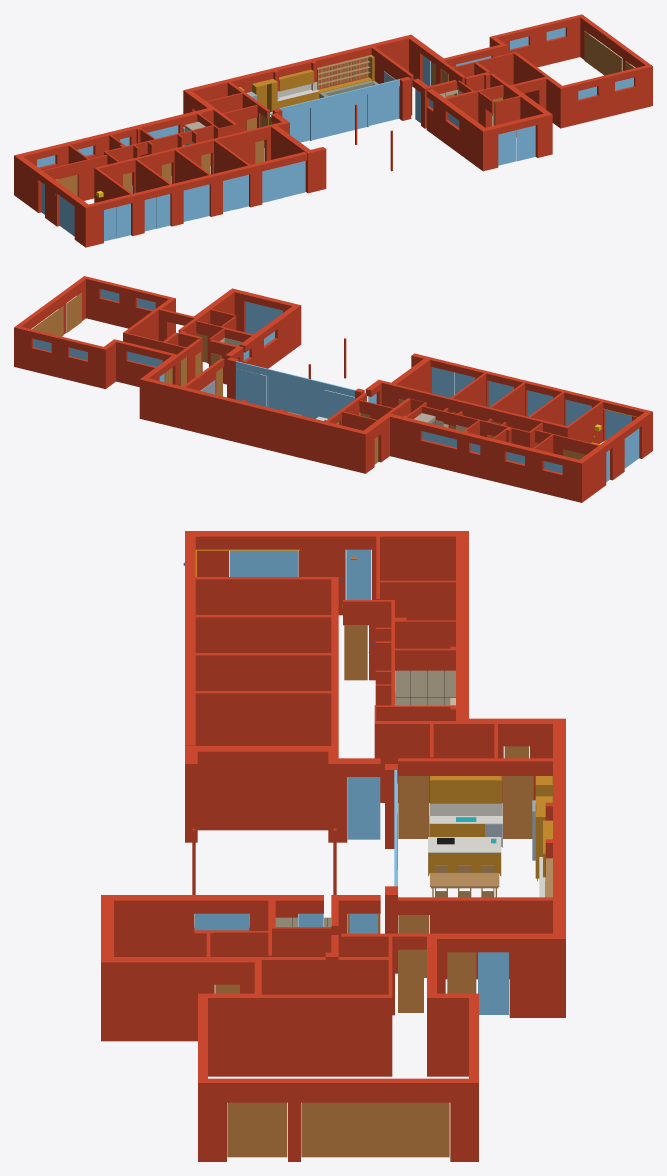
The model's file is ground_floor.glb.
The picture shows the model from 3 angles, top to bottom: view 1: azimuth 30°, elevation 25°; view 2: azimuth 150°, elevation 25°; view 3: azimuth 270°, elevation 25°; orthographic projection. The views are drawn at different scales.
Visible parts, largest first — view 1: masonry__W-002__, masonry__W-005__, masonry__W-029__, masonry__W-013__, masonry__W-030__, masonry__W-054__, masonry__W-026__, masonry__W-027__, glazing__WIN-OP28__, glazing__WIN-OP21__ (×2), masonry__W-001__, masonry__W-067__ (+38 smaller); view 2: masonry__W-029__, masonry__W-026__, masonry__W-027__, masonry__W-005__, masonry__W-030__, masonry__W-013__, masonry__W-002__, masonry__W-054__, glazing__WIN-OP28__, masonry__W-025__, masonry__W-022__, masonry__W-067__ (+31 smaller); view 3: masonry__W-049__, masonry__W-066__, masonry__W-067__, masonry__W-063__, masonry__W-030__, masonry__W-054__, door__D-OP50__, masonry__W-044__, masonry__W-060__, masonry__W-056__, masonry__W-031__, masonry__W-034__ (+40 smaller).
Part boxes in pixels (x1,y1,x2,y2): masonry__W-002__: [89, 152, 307, 245]; masonry__W-005__: [558, 65, 648, 128]; masonry__W-029__: [183, 34, 413, 113]; masonry__W-013__: [94, 125, 270, 202]; masonry__W-030__: [17, 156, 91, 247]; masonry__W-054__: [426, 89, 488, 171]; masonry__W-026__: [14, 107, 216, 197]; masonry__W-027__: [489, 15, 580, 67]; glazing__WIN-OP28__: [312, 94, 367, 140]; glazing__WIN-OP21__ (×2): [262, 161, 305, 202]; masonry__W-001__: [485, 113, 546, 169]; masonry__W-067__: [578, 14, 652, 106]; masonry__W-029__: [139, 377, 368, 473]; masonry__W-026__: [385, 413, 585, 502]; masonry__W-027__: [18, 326, 107, 388]; masonry__W-005__: [86, 277, 175, 333]; masonry__W-030__: [580, 410, 652, 500]; masonry__W-013__: [394, 384, 569, 437]; masonry__W-002__: [430, 358, 646, 441]; masonry__W-054__: [239, 304, 301, 374]; glazing__WIN-OP28__: [268, 376, 322, 418]; masonry__W-025__: [112, 339, 173, 386]; masonry__W-022__: [422, 406, 530, 447]; masonry__W-067__: [14, 276, 88, 367]; masonry__W-049__: [185, 746, 338, 830]; masonry__W-066__: [261, 994, 392, 1076]; masonry__W-067__: [198, 1078, 478, 1161]; masonry__W-063__: [101, 957, 261, 1041]; masonry__W-030__: [185, 531, 455, 615]; masonry__W-054__: [101, 895, 323, 956]; door__D-OP50__: [301, 1102, 449, 1157]; masonry__W-044__: [195, 691, 331, 745]; masonry__W-060__: [427, 933, 552, 1017]; masonry__W-056__: [398, 897, 552, 979]; masonry__W-031__: [195, 577, 331, 614]; masonry__W-034__: [195, 615, 331, 652].
Bounding box in the file's own units: 45.1 × 3.05 × 16.05.
